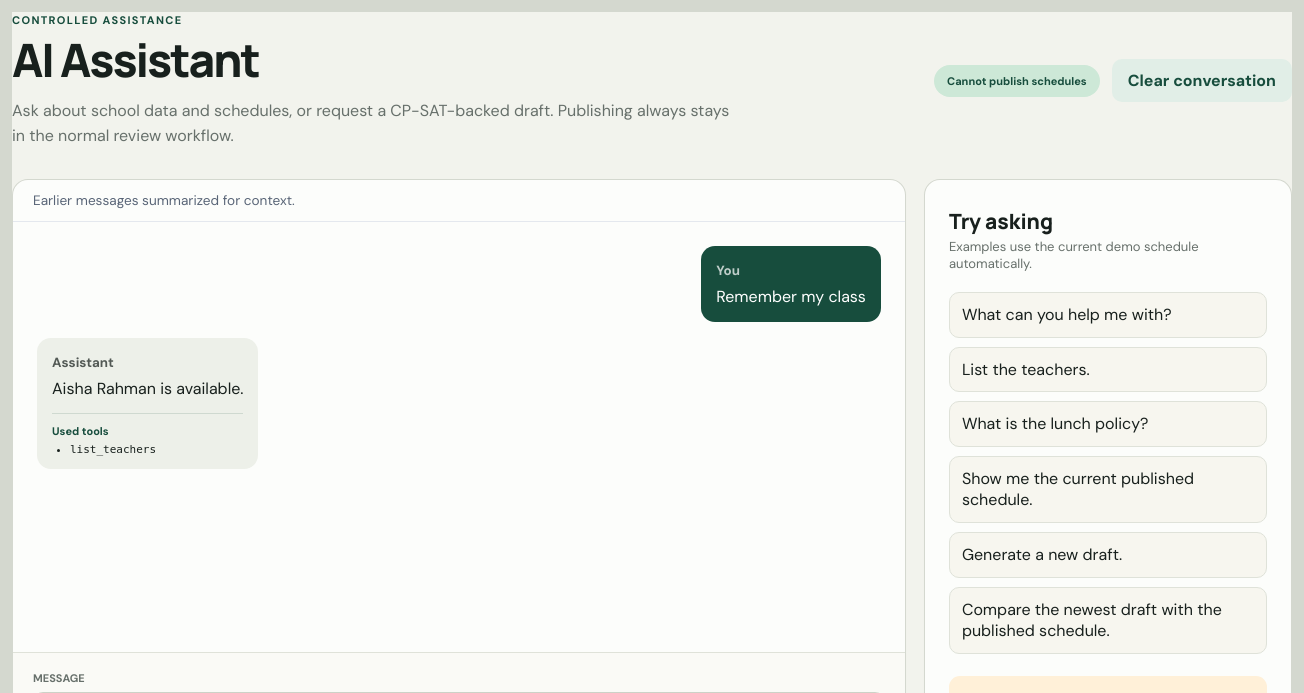
it: restores saved conversation and clears it on the server
The width and height of the screenshot is (1304, 693).
expect the text "Remember my class" is shown: met, box [716,285,866,309]
expect the text "Earlier messages summarized for context." is shown: met, box [13,180,905,222]
Click the button "Clear conversation".
click(1202, 80)  # box [1112,59,1292,102]
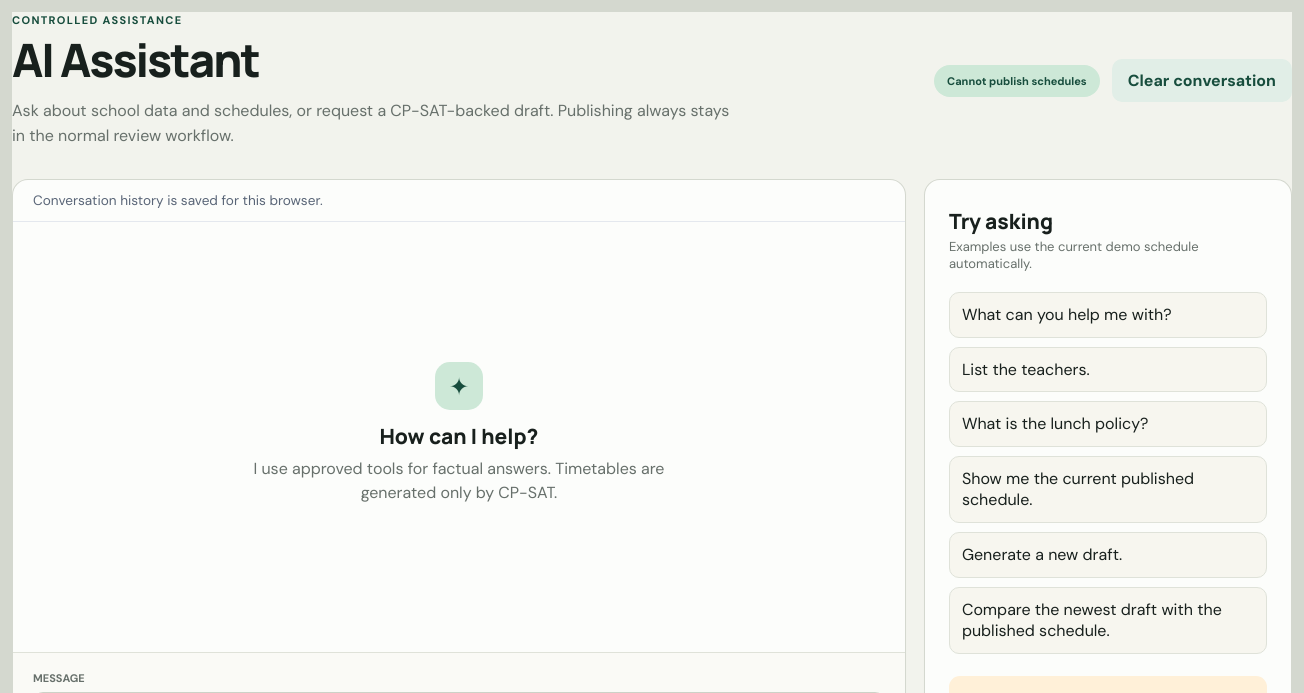
expect the text "Remember my class" is gone: met
